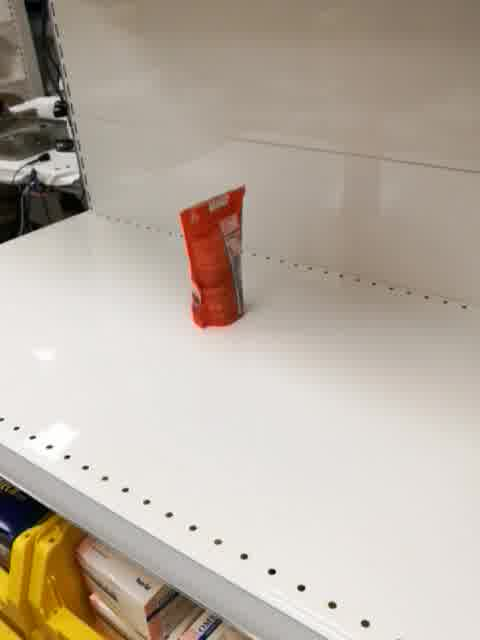whitechia: (178, 180, 250, 330)
